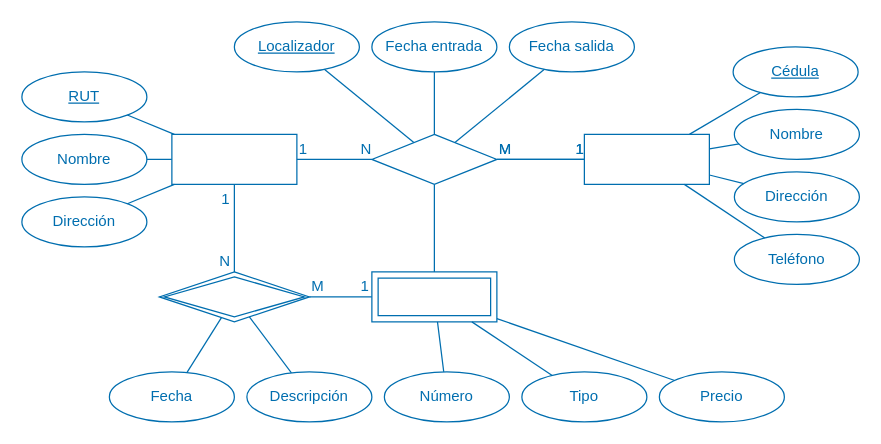
The diagram is 881 pixels wide and 444 high, and some of its shapes have lost their labels. Here are the shapes that lost their labels. From the top down, the centre of each, then its label:
[234,158]: Hotel
[434,158]: Reserva
[646,158]: Cliente
[233,296]: Mantenimiento
[434,296]: Habitación
